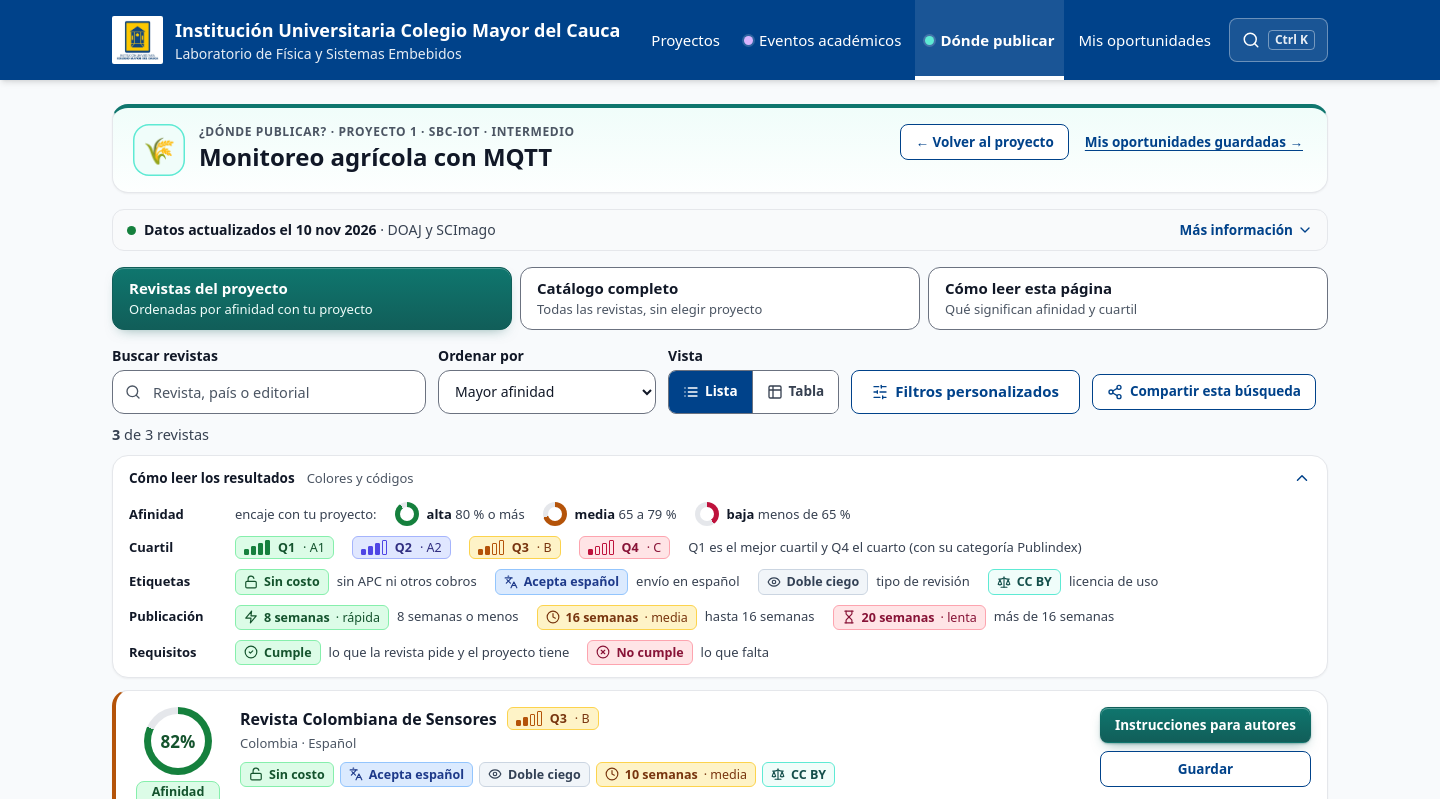
Test: journal cards: heading levels › the «Cómo leer esta página» tab does not skip levels either
The width and height of the screenshot is (1440, 799).
Expected: the heading "Monitoreo agrícola con MQTT" is shown, [199,142,575,172]
What coordinates should you click on to do the following:
click the tab "Cómo leer esta página Qué significan afinidad y cuartil"
I would click on:
 (1128, 298)
Its box is [928,267,1328,330].
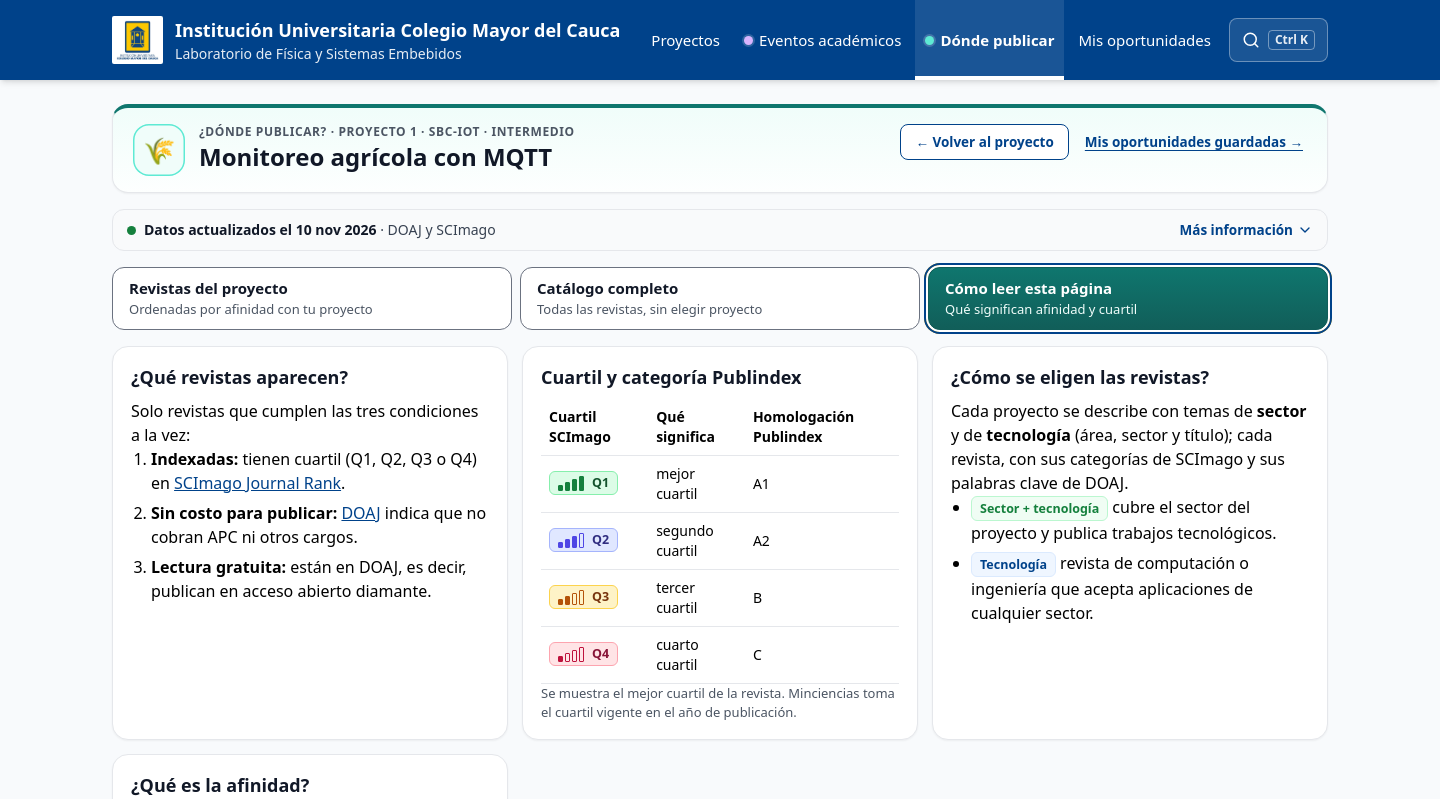
Result: the heading "¿Qué revistas aparecen?" is shown at [131,364,348,388]
Result: no the heading "Cómo leer los resultados Colores y códigos" are shown
Result: the table "Cuartil SCImago" is shown at [541,398,899,684]
